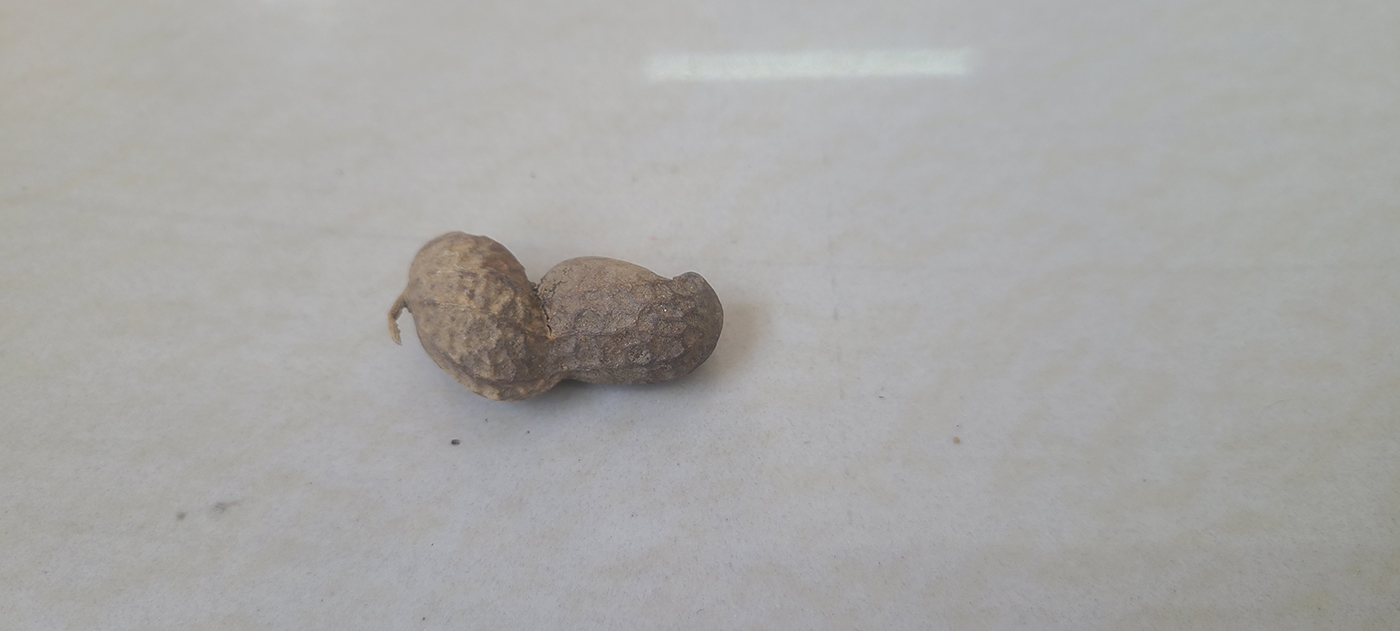l: (383, 227, 726, 399)
